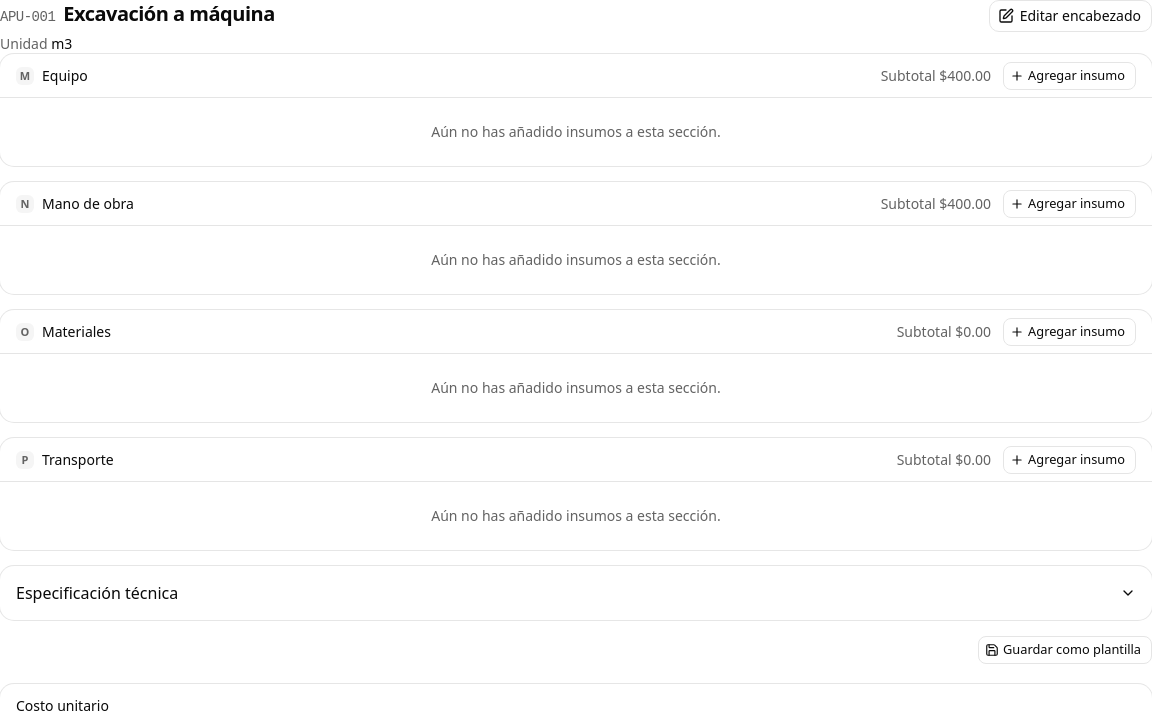
Test case: EditorApuPage › abrir el selector en una sección abre el diálogo con esa sección
The width and height of the screenshot is (1152, 720).
Click the button "Agregar insumo" in the row of "Materiales" at (1070, 332), box [1003,318,1136,346]
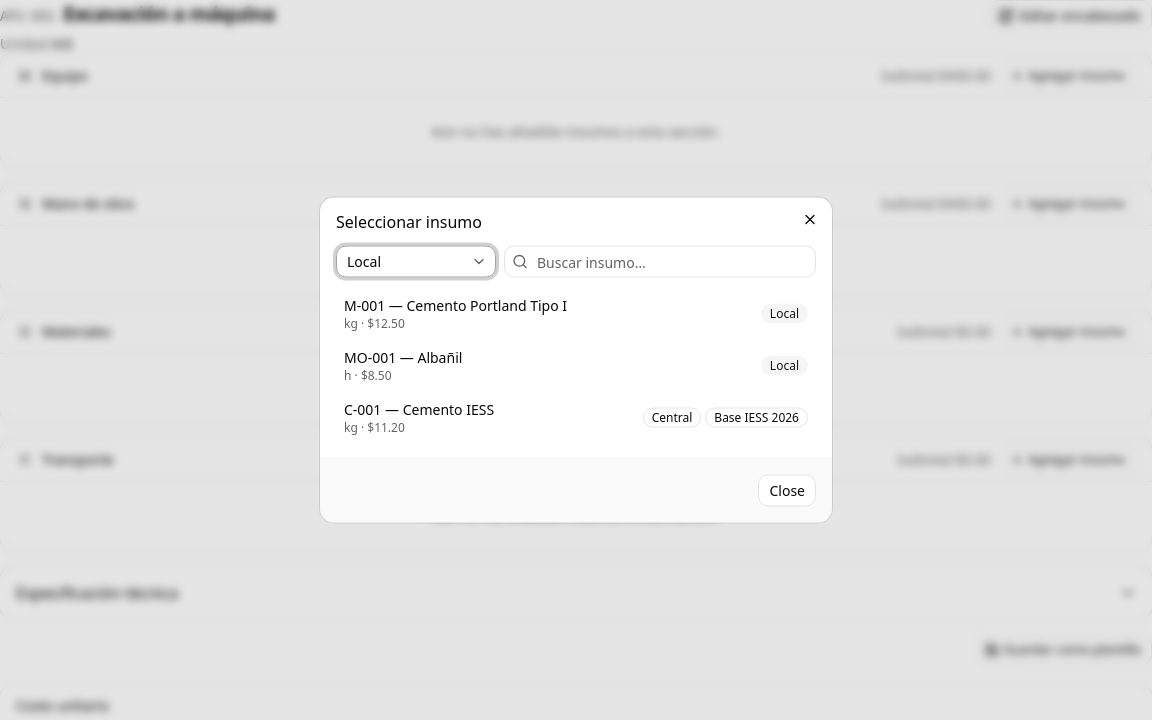
Expected: the dialog "Seleccionar insumo" is shown, [320,198,832,522]
